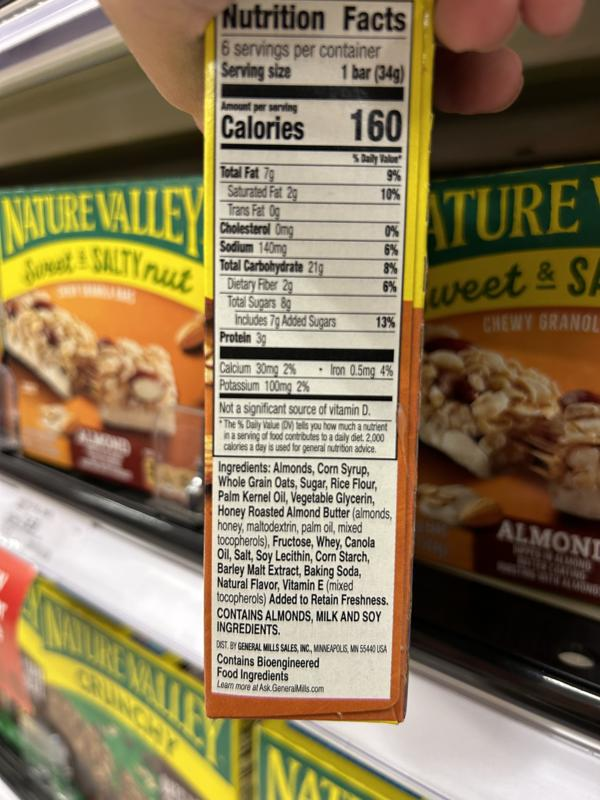ingredients: (217, 462, 390, 606)
